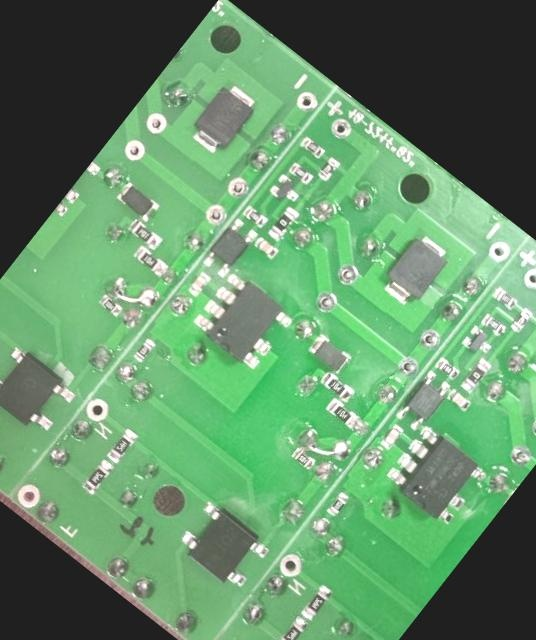chip-capacitor: (377, 420, 405, 452), (185, 268, 213, 299), (444, 386, 474, 414), (251, 234, 280, 261)
chip-resistor: (264, 204, 302, 244), (103, 424, 140, 465), (457, 355, 494, 396), (298, 582, 335, 623), (79, 457, 116, 497), (125, 216, 165, 252), (323, 394, 362, 430), (317, 368, 356, 404), (131, 243, 170, 278), (273, 614, 310, 640), (239, 202, 270, 230), (325, 488, 353, 519), (285, 159, 315, 187), (489, 284, 519, 312), (432, 354, 462, 382), (479, 310, 508, 338), (298, 133, 327, 160), (315, 154, 342, 183), (508, 305, 535, 334), (131, 336, 158, 364), (97, 292, 125, 318), (289, 445, 317, 471)
diode: (375, 228, 455, 312), (183, 76, 262, 160), (305, 331, 354, 377), (113, 180, 162, 224)
ic: (187, 267, 299, 377), (381, 422, 491, 530), (171, 495, 275, 595), (0, 340, 80, 441), (199, 214, 261, 282), (392, 368, 452, 433)
transistor: (265, 171, 305, 209), (459, 322, 497, 360)
